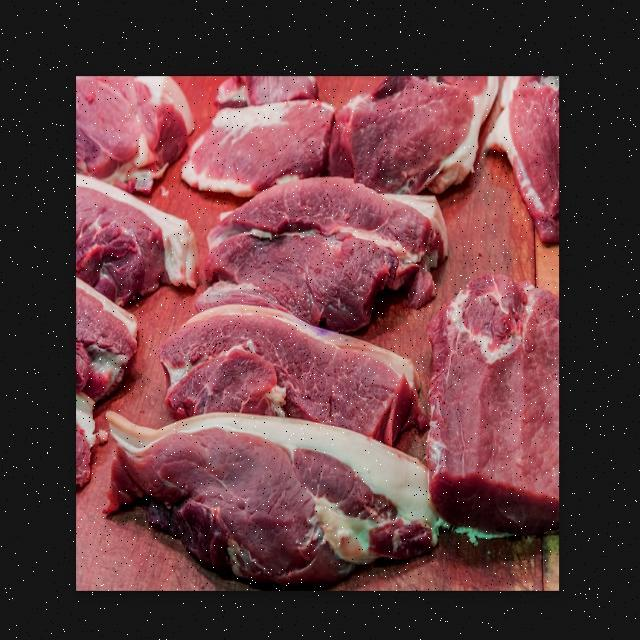pork: (121, 444, 420, 578), (429, 273, 560, 545), (200, 174, 455, 310), (160, 305, 409, 427), (180, 95, 345, 211), (332, 74, 494, 178), (75, 74, 223, 186), (77, 288, 152, 508), (76, 174, 198, 298), (489, 75, 556, 252)
